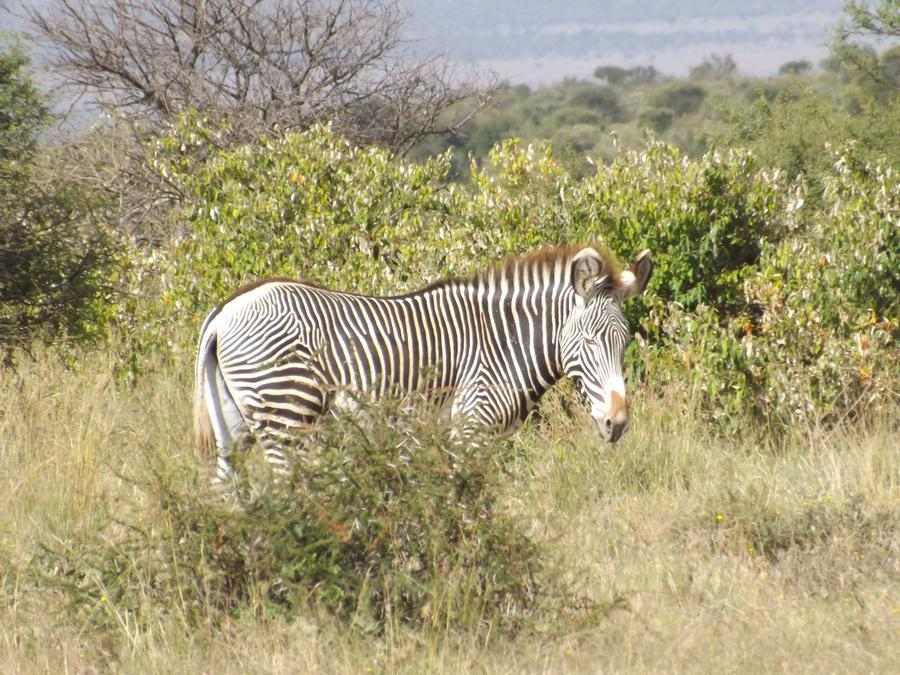zebra_grevys: (191, 265, 521, 446)
